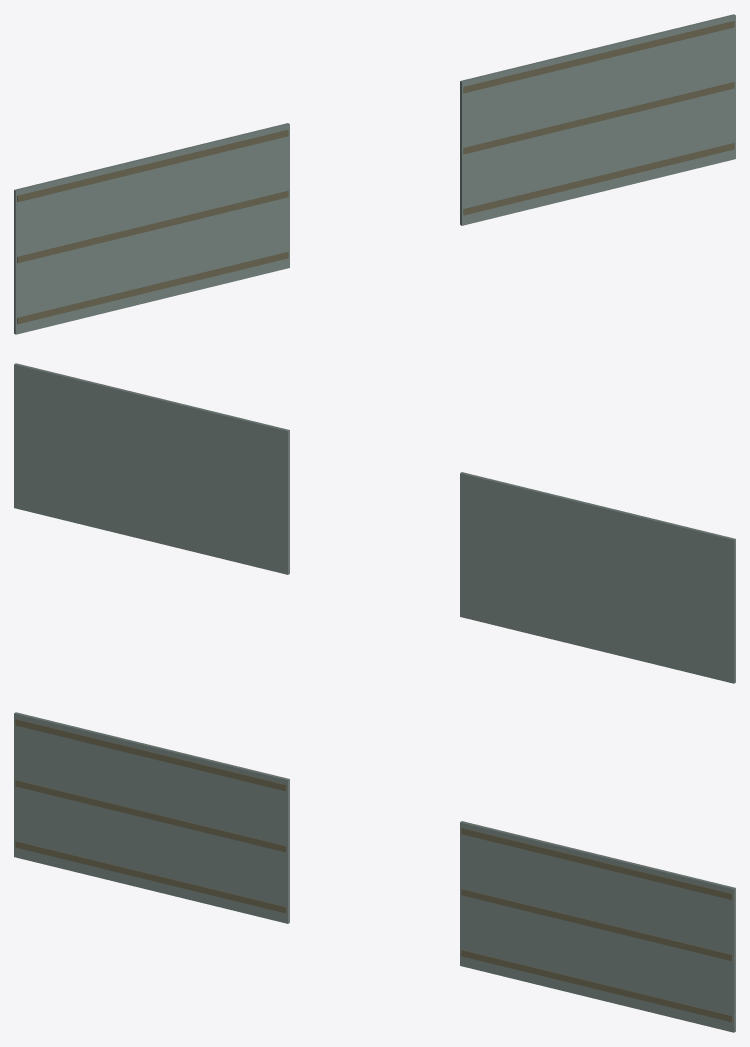
The model's file is SM_Hangar_v1_LOD1.fbx.
The picture shows the model from 3 angles, top to bottom: view 1: azimuth 30°, elevation 25°; view 2: azimuth 150°, elevation 25°; view 3: azimuth 330°, elevation 25°; orthographic projection.
Parts seen in each view (by area): view 1: Porton_E, Porton_O; view 2: Porton_E, Porton_O; view 3: Porton_E, Porton_O.
Boxes of the visible parts, x1,y1,x2,y2 form: Porton_E: [460, 14, 735, 225]; Porton_O: [14, 123, 289, 334]; Porton_E: [14, 363, 289, 574]; Porton_O: [460, 472, 735, 683]; Porton_E: [460, 821, 735, 1032]; Porton_O: [14, 712, 289, 923].
Size of what is drawn, in the model's own units: 41.98 by 8 by 0.23.
